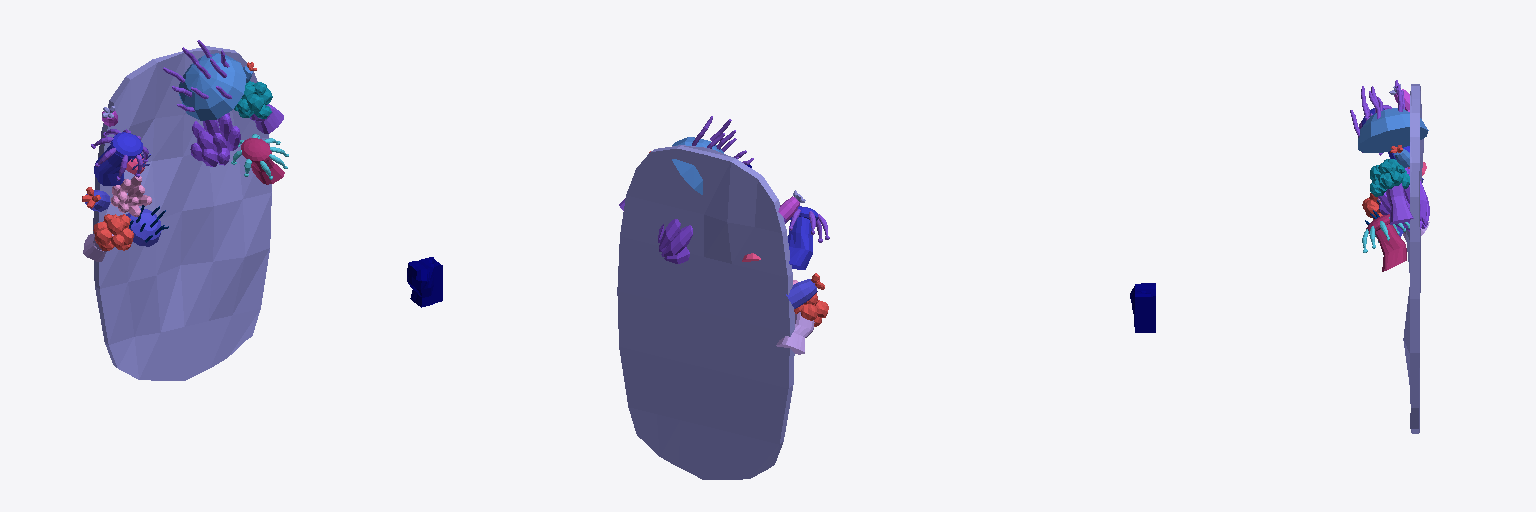
Rendered from mirrow.obj.
3 renders of one model, left to right at view 1: azimuth 30°, elevation 25°; view 2: azimuth 150°, elevation 25°; view 3: azimuth 270°, elevation 25°, orthographic.
Parts seen in each view (by area): view 1: Box001, Sphere002, Sphere044, Box004, Sphere028, Sphere037, Sphere035, Sphere024, Sphere001, Sphere012, Sphere040, Sphere034 (+1 smaller); view 2: Box001, Sphere028, Sphere044, Sphere002, Box003, Sphere012, Sphere037, Sphere025; view 3: Box001, Sphere002, Box004, Sphere035, Sphere001, Box002, Sphere044, Sphere012.
Part boxes in pixels (bbox=[...]): Box001: bbox=[93, 46, 271, 380]; Sphere002: bbox=[179, 53, 246, 120]; Sphere044: bbox=[190, 113, 240, 166]; Box004: bbox=[407, 257, 442, 307]; Sphere028: bbox=[94, 132, 142, 185]; Sphere037: bbox=[93, 214, 133, 250]; Sphere035: bbox=[241, 138, 284, 184]; Sphere024: bbox=[111, 176, 151, 216]; Sphere001: bbox=[234, 81, 272, 118]; Sphere012: bbox=[163, 40, 231, 111]; Sphere040: bbox=[126, 209, 161, 246]; Sphere034: bbox=[91, 129, 148, 180]; Box001: bbox=[617, 145, 794, 479]; Sphere028: bbox=[788, 206, 817, 269]; Sphere044: bbox=[658, 219, 692, 263]; Sphere002: bbox=[672, 137, 723, 194]; Box003: bbox=[776, 312, 814, 354]; Sphere012: bbox=[692, 116, 753, 164]; Sphere037: bbox=[794, 293, 828, 326]; Sphere025: bbox=[786, 279, 817, 308]; Box001: bbox=[1403, 84, 1423, 433]; Sphere002: bbox=[1358, 108, 1428, 152]; Box004: bbox=[1130, 283, 1155, 332]; Sphere035: bbox=[1366, 214, 1406, 271]; Sphere001: bbox=[1370, 159, 1409, 196]; Box002: bbox=[1386, 183, 1413, 224]; Sphere044: bbox=[1378, 167, 1429, 231]; Sphere012: bbox=[1350, 80, 1404, 136].
Size of the model in its own units: 61.67 by 87.97 by 69.9.